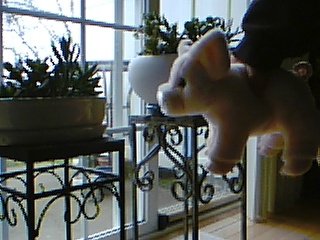piggy: (155, 27, 320, 178)
